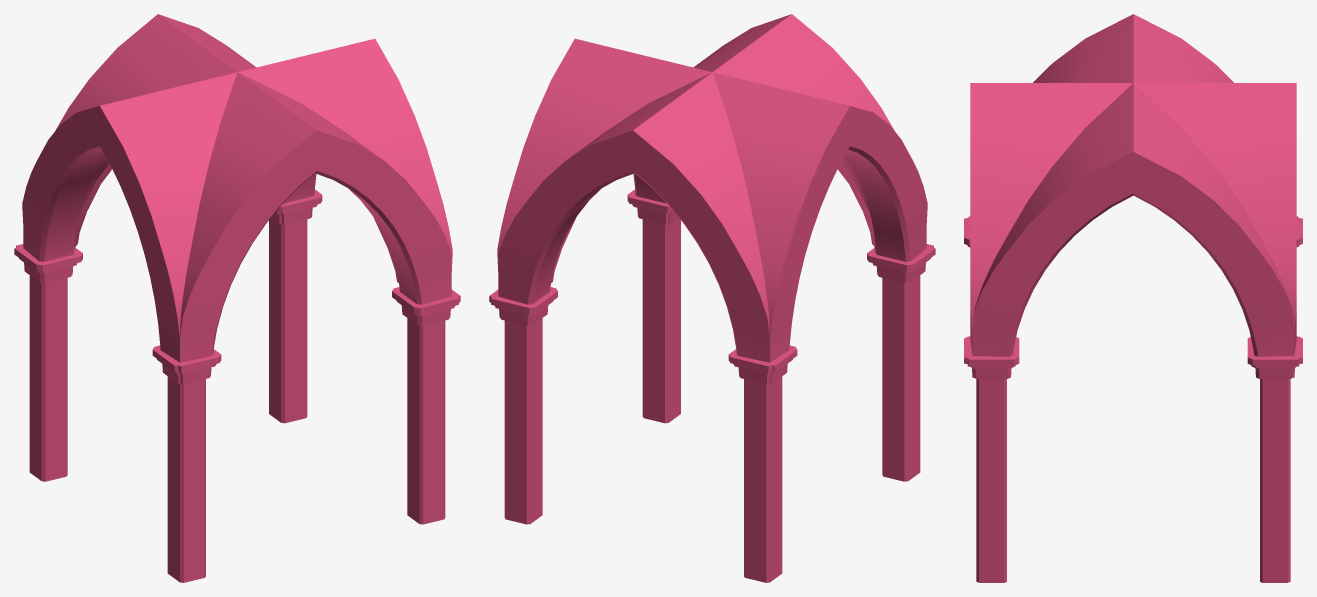
Rendered from central_gallery_structure.fbx.
3 renders of one model, left to right at view 1: azimuth 30°, elevation 25°; view 2: azimuth 150°, elevation 25°; view 3: azimuth 270°, elevation 25°, orthographic. The views are drawn at different scales.
Visible parts, largest first — view 1: topo torre 1.001; view 2: topo torre 1.001; view 3: topo torre 1.001.
Part boxes in pixels (x1,y1,x2,y2): topo torre 1.001: (14,14,460,582); topo torre 1.001: (489,14,935,582); topo torre 1.001: (964,14,1302,582).
Bounding box in the file's own units: 3198 × 4518 × 3198.
